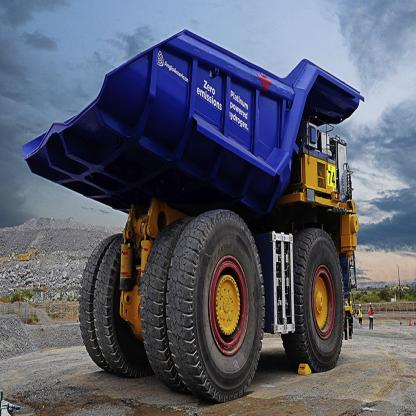dump_truck: (22, 25, 380, 400)
